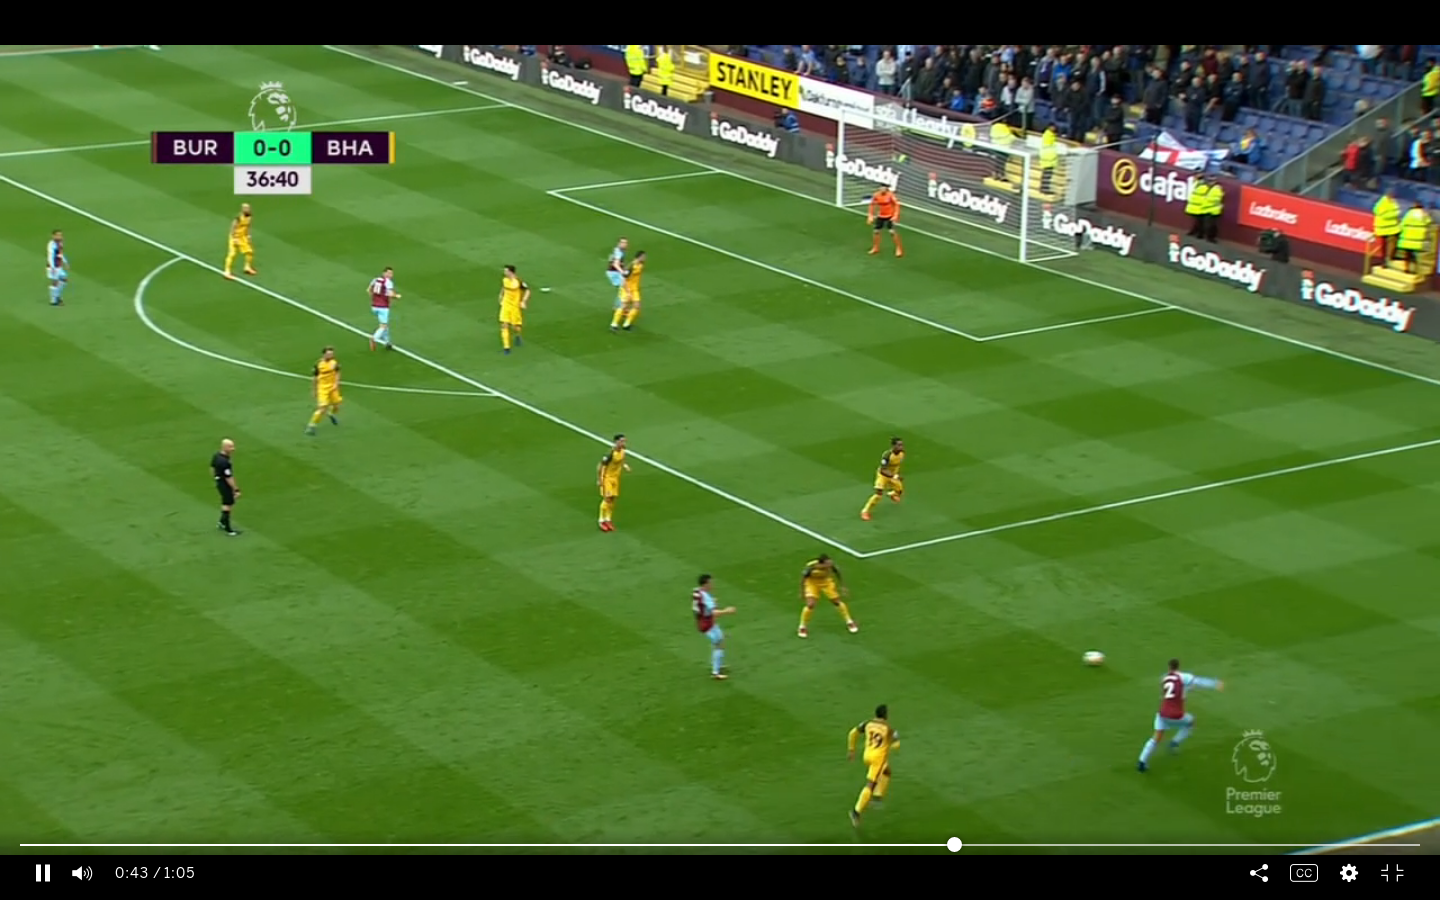referee: (205, 432, 247, 542)
soccer player: (1133, 656, 1219, 772), (841, 700, 902, 839), (687, 572, 742, 691), (584, 429, 638, 543), (793, 552, 859, 642), (858, 431, 916, 523), (301, 345, 352, 434), (490, 263, 533, 352), (365, 263, 404, 349), (613, 251, 652, 332), (867, 185, 905, 265), (36, 225, 73, 306), (225, 200, 252, 279), (602, 232, 632, 302)
soccerball: (1078, 645, 1113, 674)
